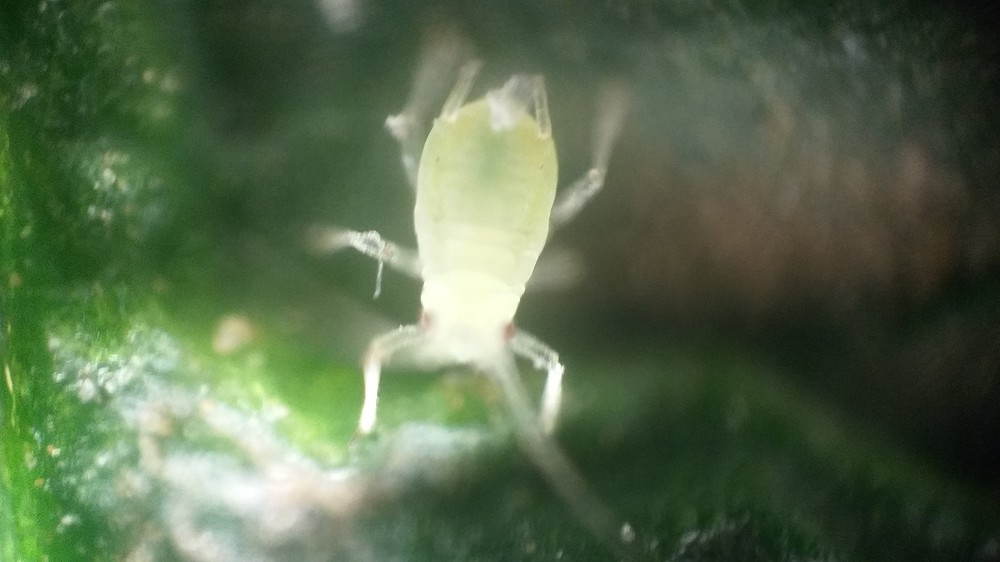Pulgon: (326, 58, 653, 508)
